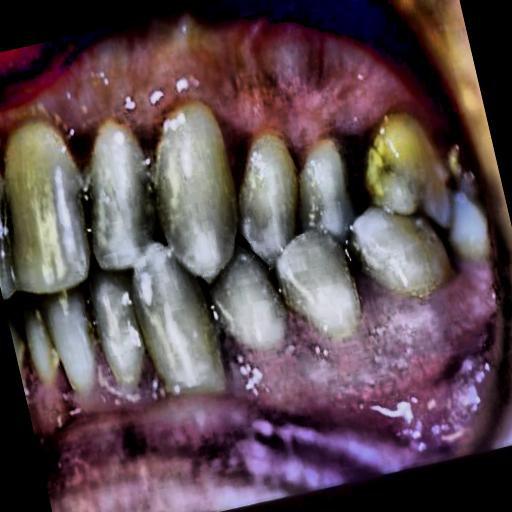Gingivitis: (48, 0, 429, 195)
